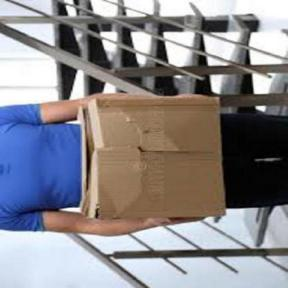box: (72, 92, 231, 225)
